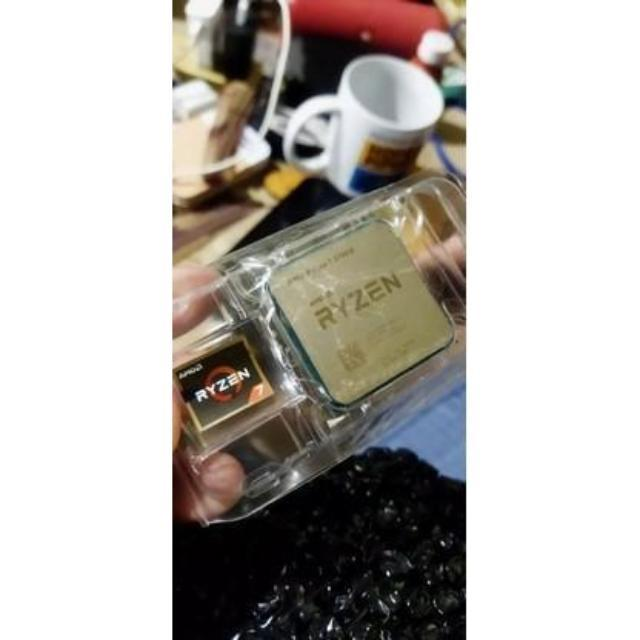CPU: (270, 225, 453, 404)
